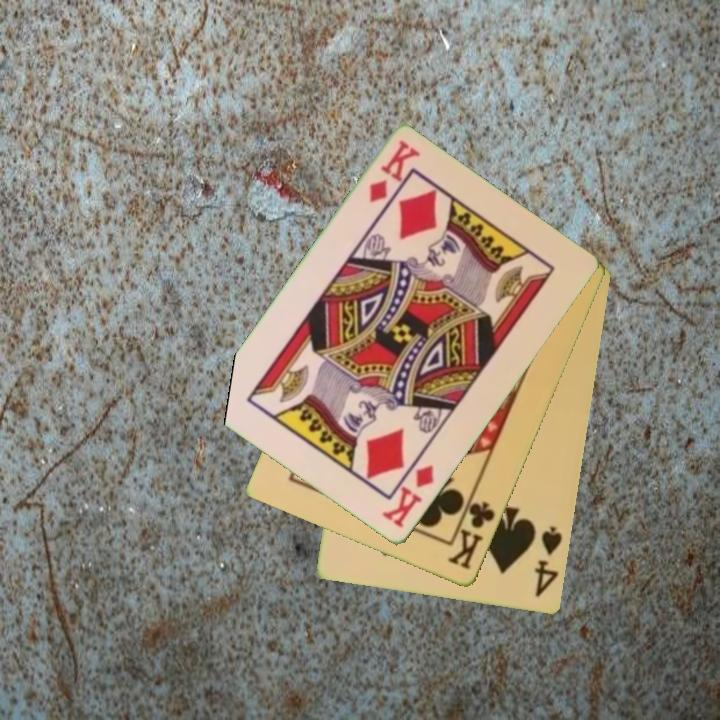4s: (531, 523, 566, 601)
Kc: (444, 490, 499, 573)
Kd: (378, 461, 437, 532), (365, 137, 423, 207)
